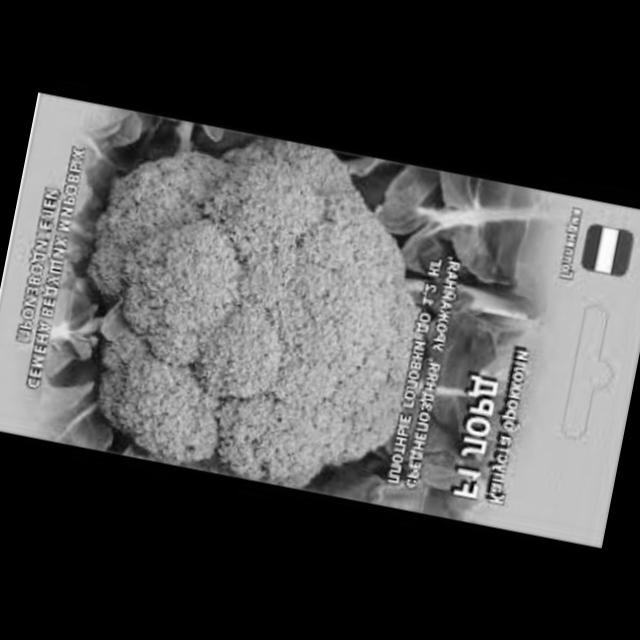broccoli: (46, 108, 453, 508)
